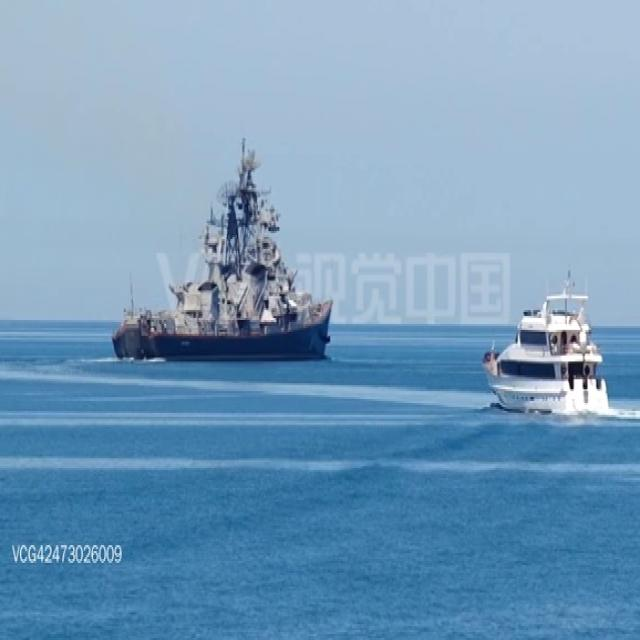houseboat: (480, 278, 605, 418)
navalvessels: (101, 132, 337, 365)
